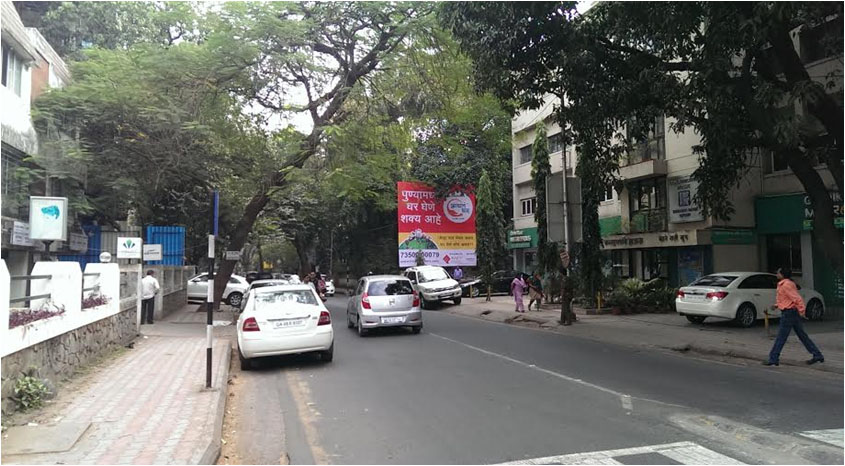car: (234, 278, 342, 378), (671, 267, 776, 336), (347, 272, 426, 344), (416, 263, 465, 315)
